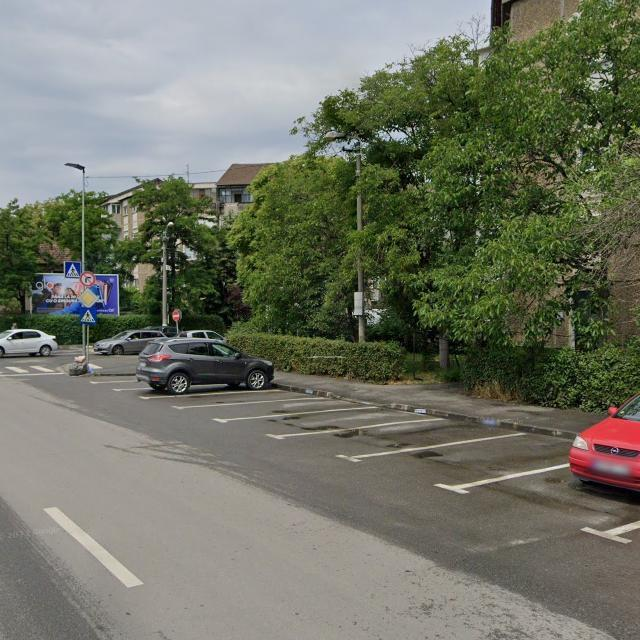info_crosswalk: (64, 261, 82, 279), (79, 308, 97, 325)
